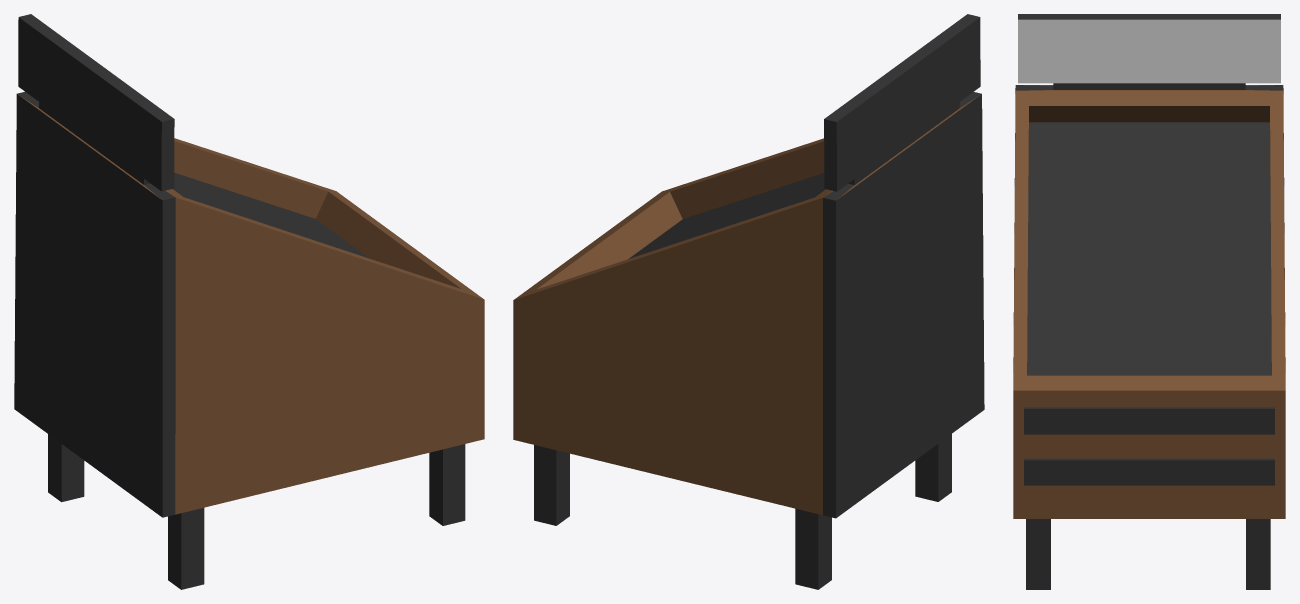
The model's file is S.FruitVegStand.fbx.
3 views of the same model, side by side, from view 1: azimuth 30°, elevation 25°; view 2: azimuth 150°, elevation 25°; view 3: azimuth 270°, elevation 25° (orthographic). The views are drawn at different scales.
Parts seen in each view (by area): view 1: Fruit Stand; view 2: Fruit Stand; view 3: Fruit Stand.
Boxes of the visible parts, x1,y1,x2,y2 form: Fruit Stand: (14, 14, 484, 589); Fruit Stand: (513, 14, 984, 589); Fruit Stand: (1013, 14, 1285, 589).
Bounding box in the file's own units: 307 × 429 × 242.
